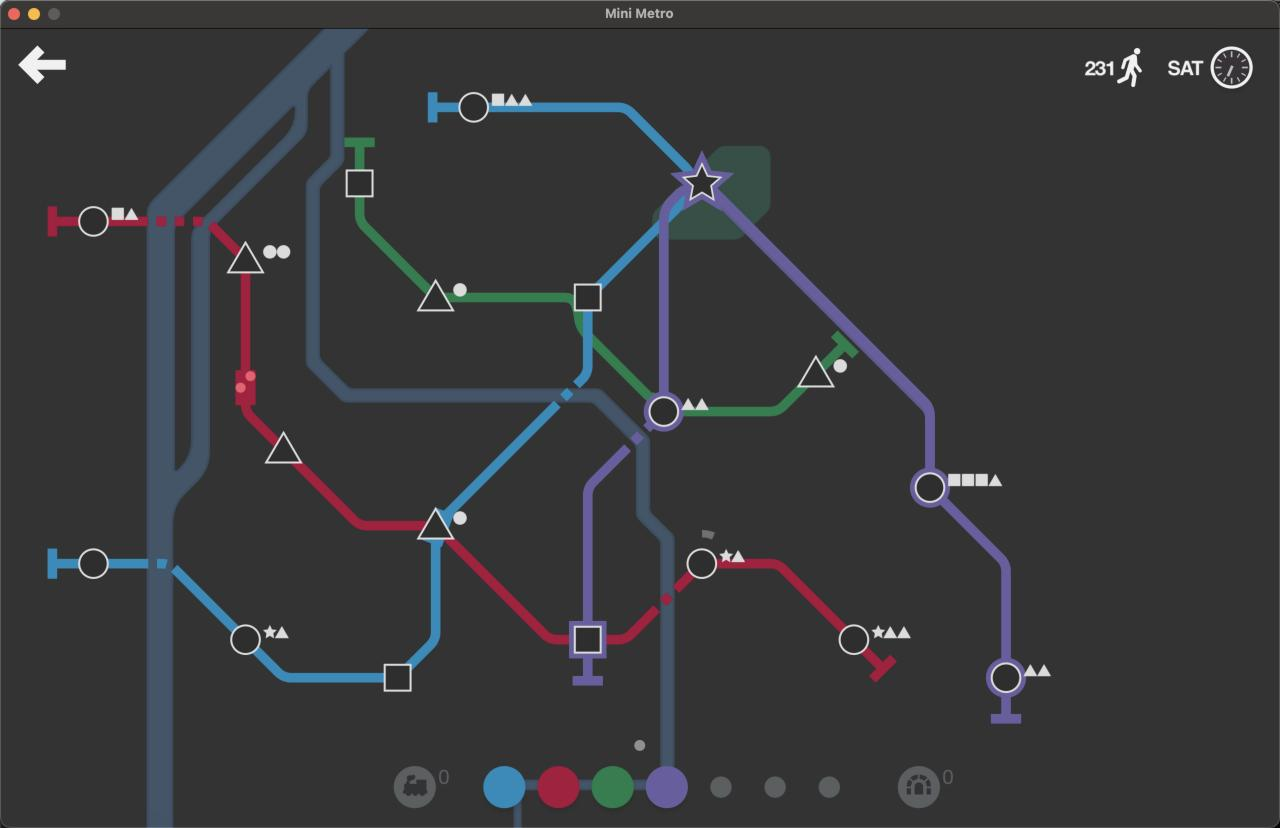CIRCLE: (912, 468, 950, 506), (987, 659, 1024, 696), (647, 394, 681, 428), (686, 547, 718, 580), (458, 90, 489, 124), (230, 623, 261, 656), (839, 623, 870, 656), (78, 547, 109, 579), (78, 205, 109, 237)
SQUARE: (572, 623, 605, 656), (382, 662, 413, 693), (345, 168, 375, 198), (573, 282, 603, 312)
STAR: (679, 162, 724, 201)
TRIANGLE: (416, 506, 456, 543), (416, 278, 457, 314), (226, 240, 266, 275), (798, 354, 836, 390), (264, 430, 303, 465)
